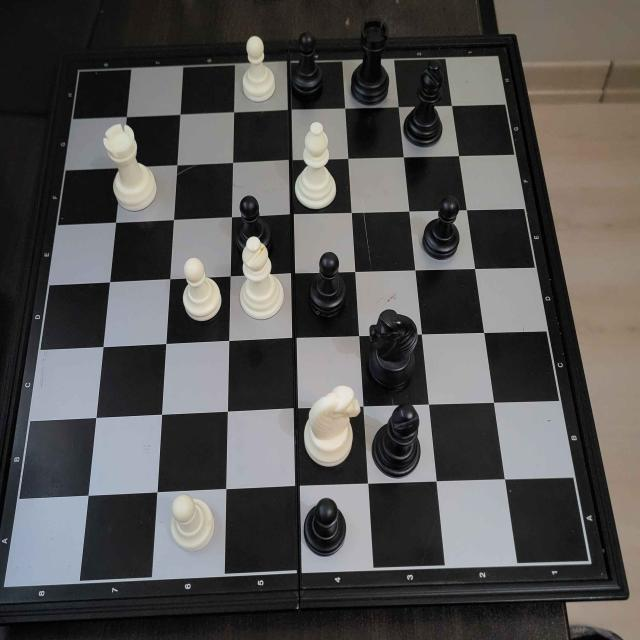black-bishop: (368, 397, 429, 478), (401, 56, 448, 151)
black-knight: (364, 304, 422, 398)
black-pawn: (300, 484, 350, 564), (310, 248, 354, 326), (420, 190, 462, 264), (291, 31, 325, 97), (236, 194, 270, 242)
black-rook: (344, 12, 394, 109)
chess-board: (2, 37, 608, 618)
white-bishop: (294, 119, 338, 218), (238, 234, 285, 324)
white-knight: (300, 381, 363, 477)
white-pawn: (176, 250, 225, 326), (166, 487, 216, 558), (242, 32, 276, 110)
white-rook: (101, 115, 160, 219)
